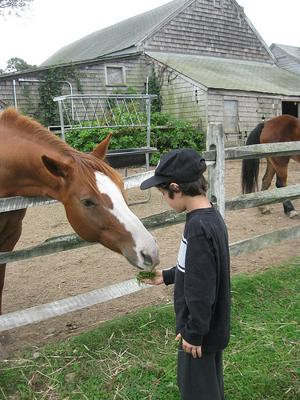person: (137, 146, 232, 400)
